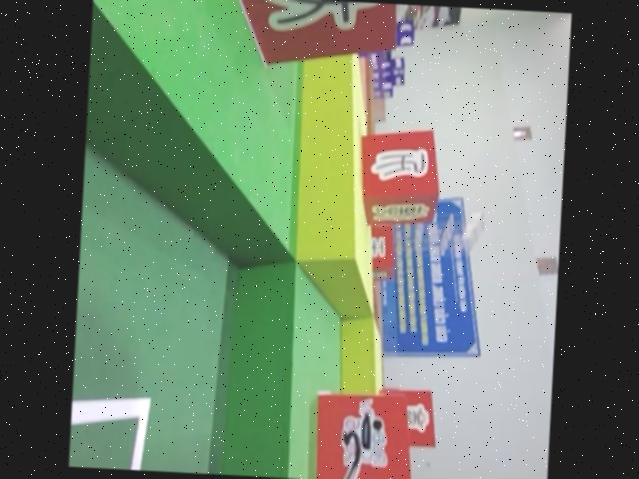R1: (310, 389, 416, 479)
R2 Fake: (206, 0, 398, 71), (354, 125, 443, 224)
